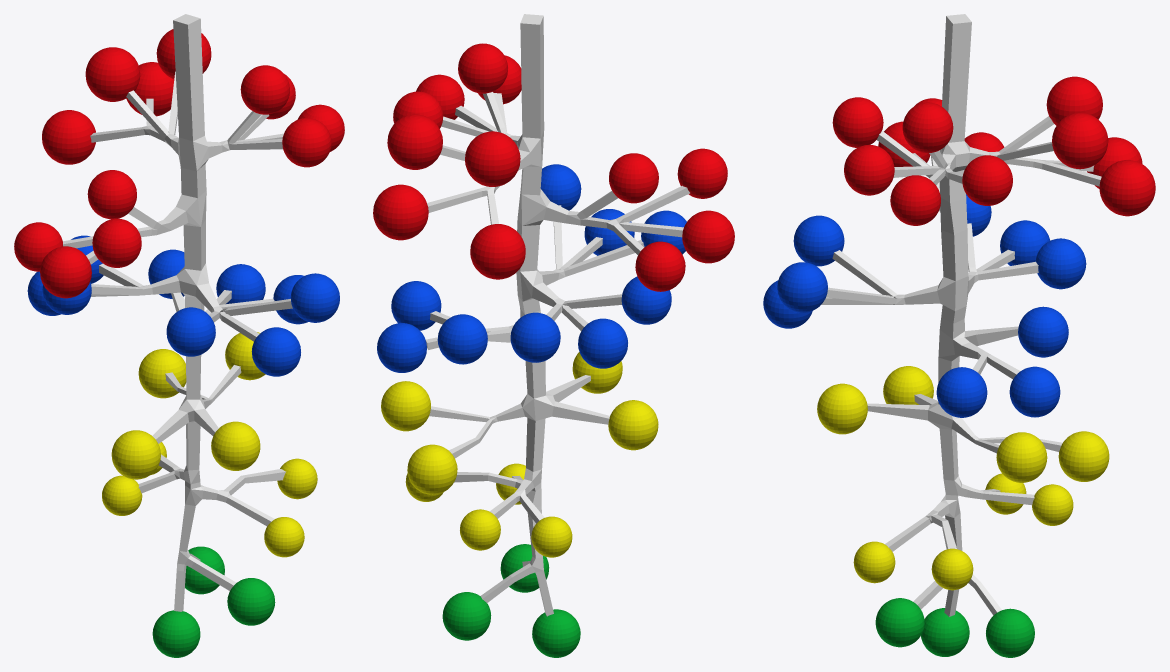
File: GrapeModel.fbx
The picture shows the model from 3 angles, left to right: view 1: azimuth 30°, elevation 25°; view 2: azimuth 150°, elevation 25°; view 3: azimuth 270°, elevation 25°; orthographic projection. The views are drawn at different scales.
Parts seen in each view (by area): view 1: Vert, 球.001, 球.003, 球.011, 球.013, 球.007, 球.009, 球.021, 球.023, 球.014, 球.005, 球.008 (+18 smaller); view 2: Vert, 球.002, 球.003, 球.001, 球, 球.011, 球.005, 球.010, 球.015, 球.020, 球.021, 球.008 (+20 smaller); view 3: Vert, 球.002, 球, 球.023, 球.012, 球.019, 球.004, 球.007, 球.005, 球.018, 球.024, 球.020 (+20 smaller).
Part boxes in pixels (x1=…): Vert: x1=63, y1=14, x2=292, y2=611; 球.001: x1=85, y1=47, x2=140, y2=101; 球.003: x1=42, y1=110, x2=95, y2=164; 球.011: x1=40, y1=246, x2=91, y2=298; 球.013: x1=166, y1=307, x2=215, y2=356; 球.007: x1=282, y1=118, x2=331, y2=167; 球.009: x1=92, y1=218, x2=141, y2=267; 球.021: x1=111, y1=430, x2=160, y2=479; 球.023: x1=211, y1=421, x2=260, y2=470; 球.014: x1=251, y1=327, x2=300, y2=376; 球.005: x1=240, y1=65, x2=289, y2=114; 球.008: x1=87, y1=170, x2=136, y2=219; Vert: x1=425, y1=14, x2=689, y2=616; 球.002: x1=373, y1=184, x2=428, y2=240; 球.003: x1=470, y1=224, x2=525, y2=279; 球.001: x1=465, y1=131, x2=520, y2=186; 球: x1=387, y1=114, x2=442, y2=169; 球.011: x1=682, y1=210, x2=734, y2=263; 球.005: x1=458, y1=43, x2=507, y2=93; 球.010: x1=635, y1=241, x2=685, y2=291; 球.015: x1=510, y1=312, x2=560, y2=362; 球.020: x1=437, y1=314, x2=487, y2=364; 球.021: x1=608, y1=400, x2=658, y2=450; 球.008: x1=609, y1=153, x2=658, y2=203; Vert: x1=821, y1=14, x2=1101, y2=616; 球.002: x1=1099, y1=160, x2=1155, y2=216; 球: x1=1052, y1=113, x2=1108, y2=169; 球.023: x1=817, y1=383, x2=867, y2=434; 球.012: x1=777, y1=262, x2=827, y2=312; 球.019: x1=1009, y1=366, x2=1060, y2=417; 球.004: x1=962, y1=155, x2=1012, y2=205; 球.007: x1=844, y1=144, x2=894, y2=195; 球.005: x1=902, y1=102, x2=953, y2=153; 球.018: x1=936, y1=367, x2=987, y2=417; 球.024: x1=1058, y1=431, x2=1109, y2=481; 球.020: x1=1018, y1=306, x2=1068, y2=357.
Size of the model in its own units: 59.48 by 117 by 64.77.
